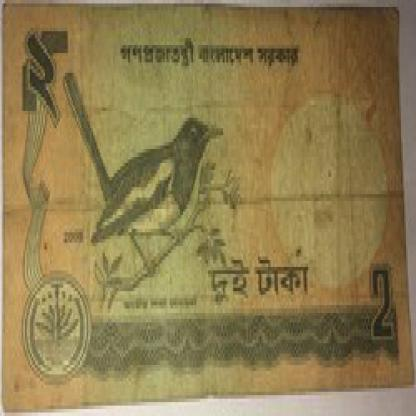two taka: (351, 260, 404, 347), (25, 24, 70, 118)
